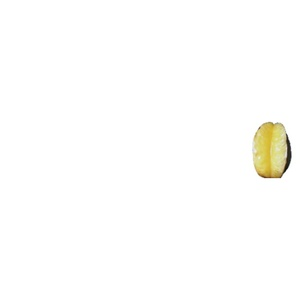carambola: (253, 122, 291, 179)
